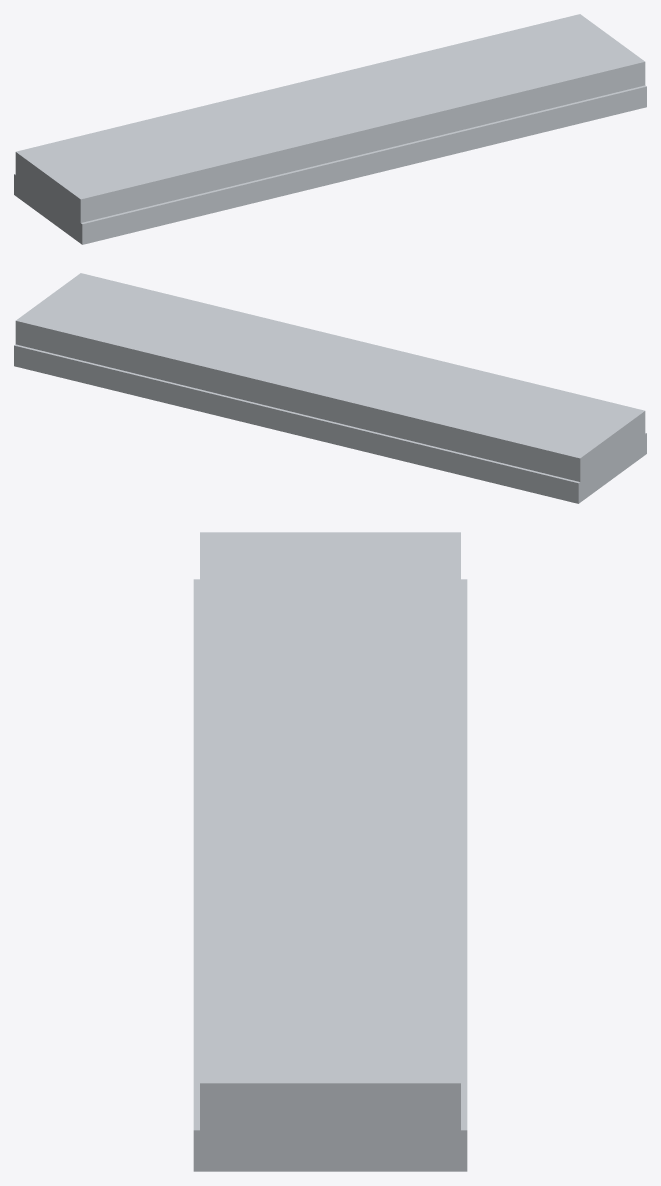
File: telhado_platibanda_rufo_1m.glb
The picture shows the model from 3 angles, top to bottom: view 1: azimuth 30°, elevation 25°; view 2: azimuth 150°, elevation 25°; view 3: azimuth 270°, elevation 25°; orthographic projection. The views are drawn at different scales.
Parts seen in each view (by area): view 1: telhado_platibanda_rufo_1m; view 2: telhado_platibanda_rufo_1m; view 3: telhado_platibanda_rufo_1m.
Part boxes in pixels (left/top/right/bottom): telhado_platibanda_rufo_1m: left=14, top=14, right=646, bottom=244; telhado_platibanda_rufo_1m: left=14, top=273, right=646, bottom=503; telhado_platibanda_rufo_1m: left=193, top=532, right=467, bottom=1171.
Size of the model in its own units: 1 by 0.075 by 0.21.
1 material, 1 textured.
